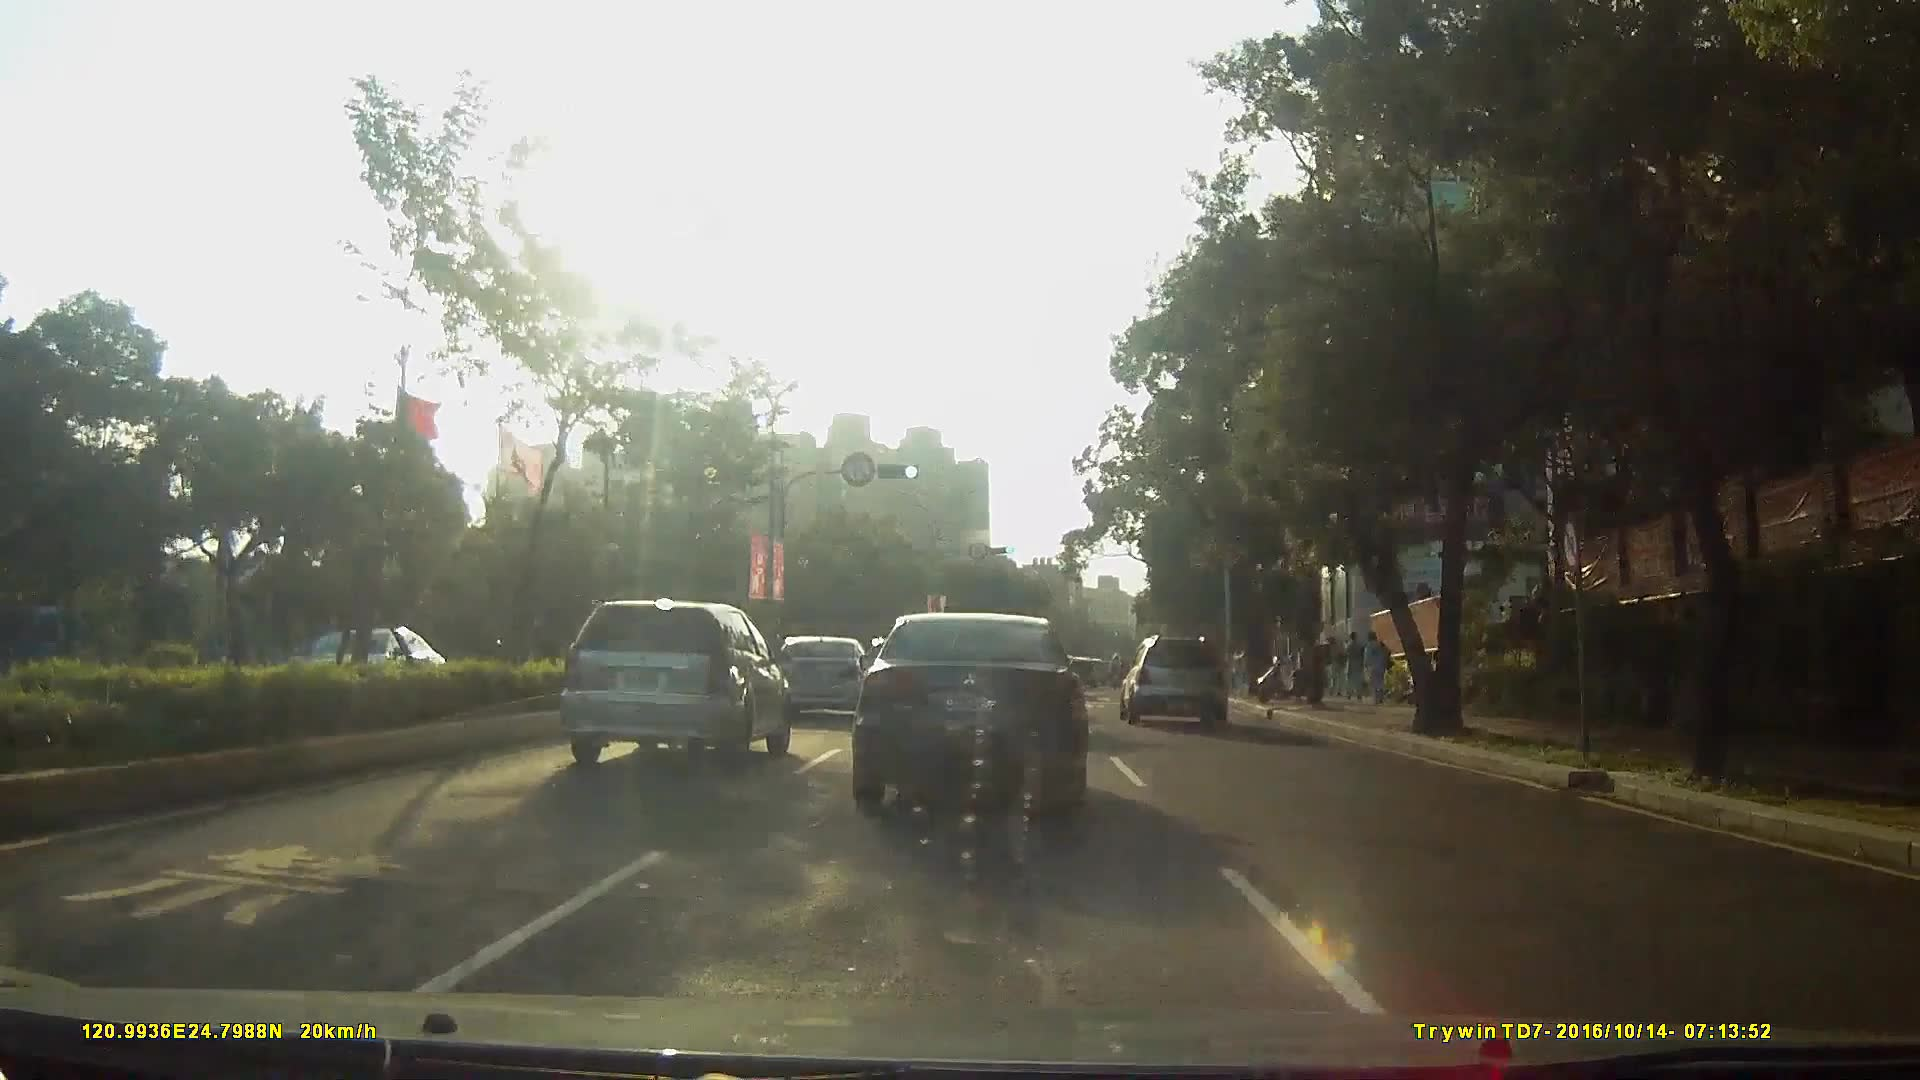pedestrian: (1363, 622, 1391, 703), (1346, 625, 1366, 705)
vehicle: (849, 598, 1087, 810), (555, 585, 790, 757), (273, 622, 452, 705), (1116, 631, 1241, 727), (777, 636, 870, 724)
